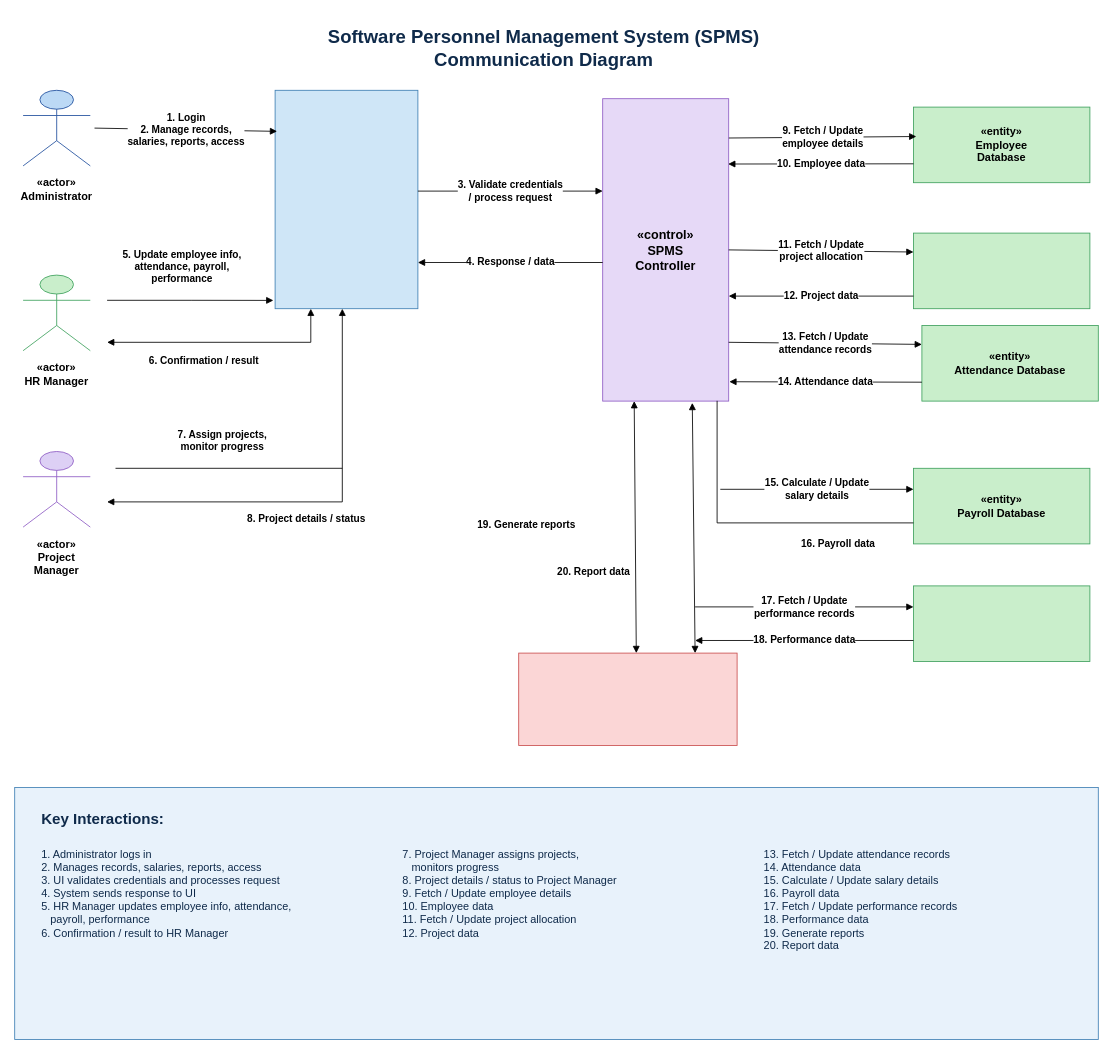
Image size: 1113x1054. Some labels were removed from this diagram. Each missing label, with the centre of its shape:
"«boundary» Reports Module (Dashboard / Reports)" goes at (x=627, y=699).
"«boundary» Web Interface (UI)" goes at (x=346, y=199).
"«entity» Performance Database" goes at (x=1001, y=623).
"«entity» Project Database" goes at (x=1001, y=270).
